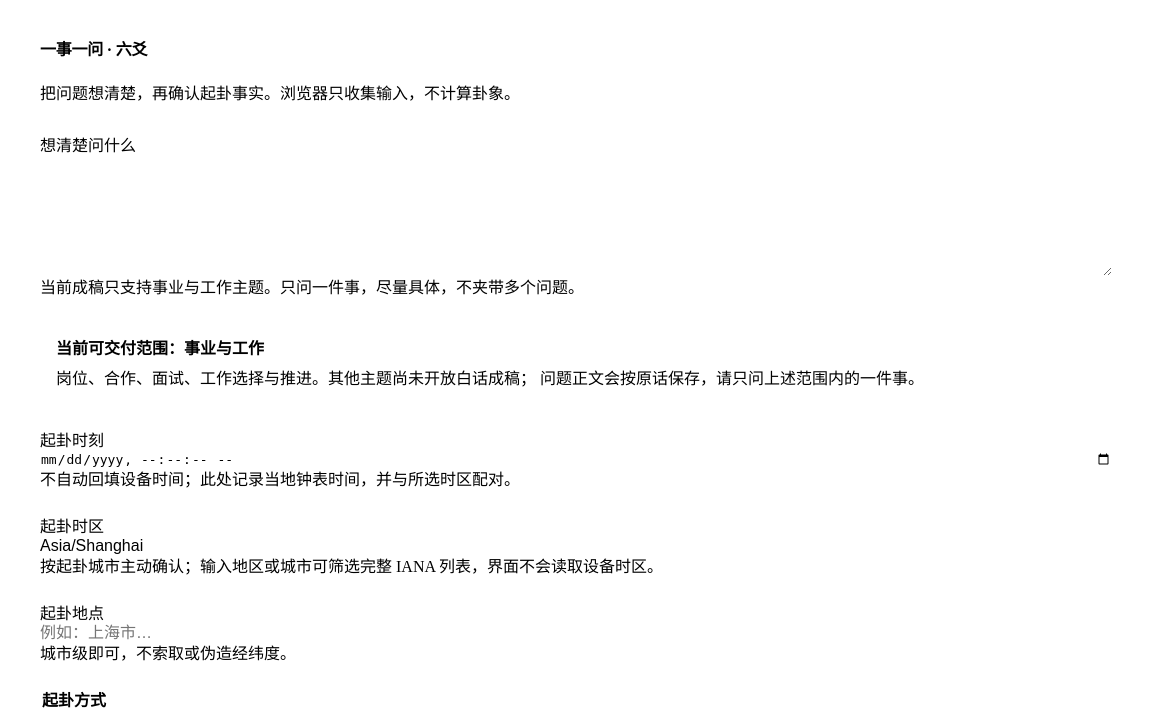
Test: LiuyaoForm › uses the searchable IANA allowlist and rejects a merely well-shaped value
Step 1. Type "这次岗位面试能否进入下一轮？" into the text box labelled "想清楚问什么" → [576, 216], box [40,156,1112,276]
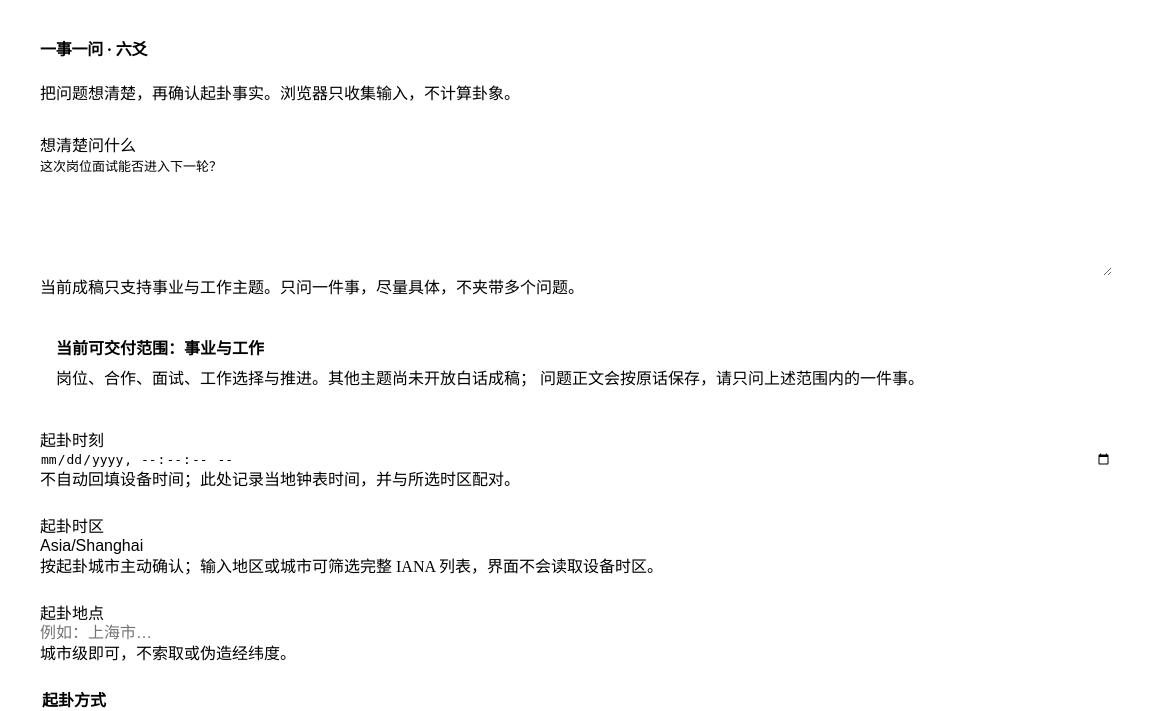
Step 2. Type "2026-08-09T20:10" into the field labelled "起卦时刻" → [576, 460], box [40,451,1112,468]
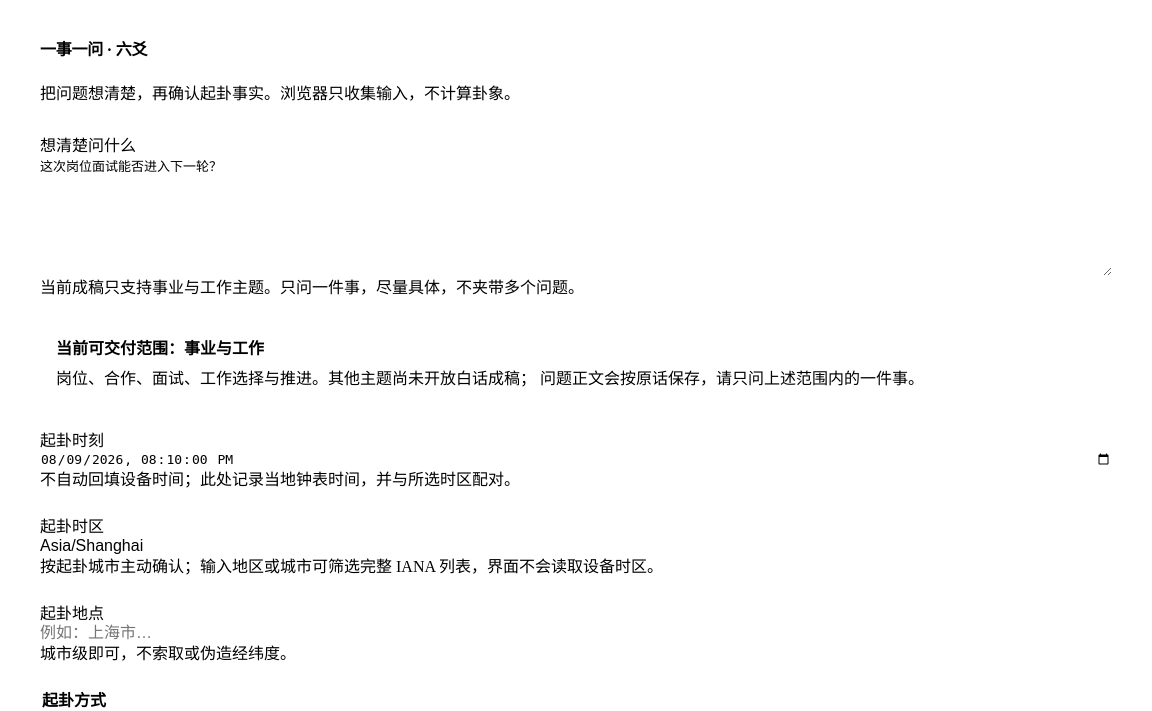
Step 3. Type "上海市" into the field labelled "起卦地点" → [576, 633], box [40,624,1112,642]
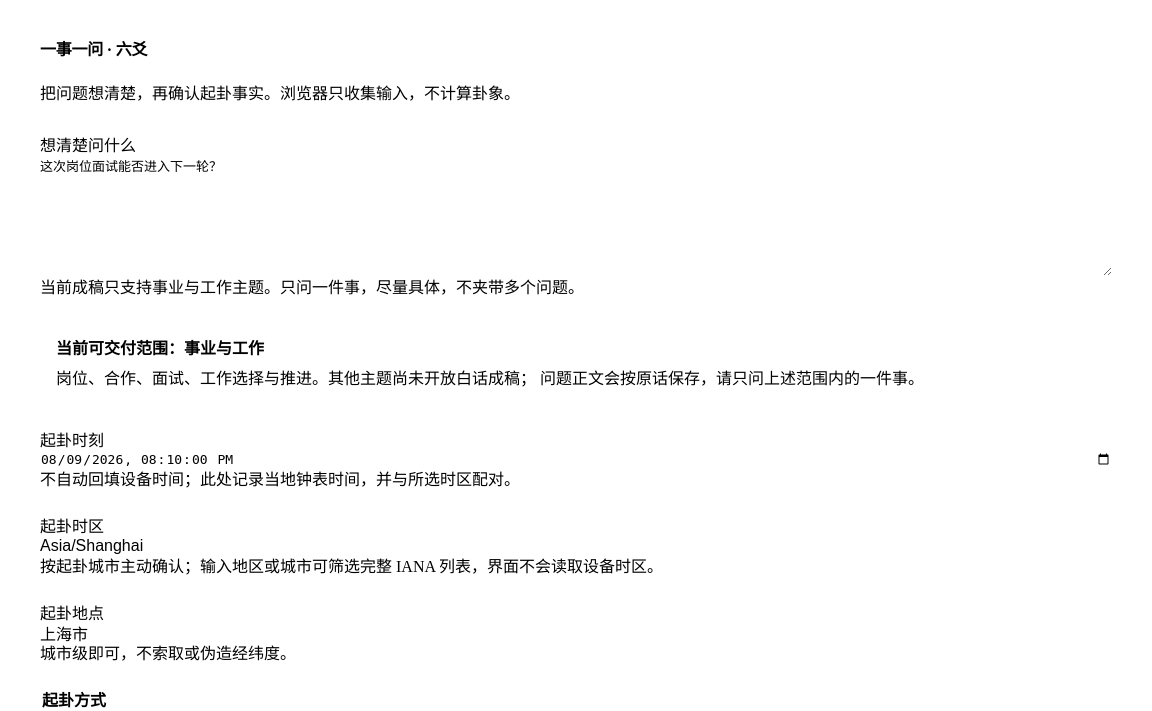
Step 4. Replace the text in the field labelled "起卦时区" with "Foo/Bar" → [576, 546], box [40,537,1112,555]
(page scrolled)
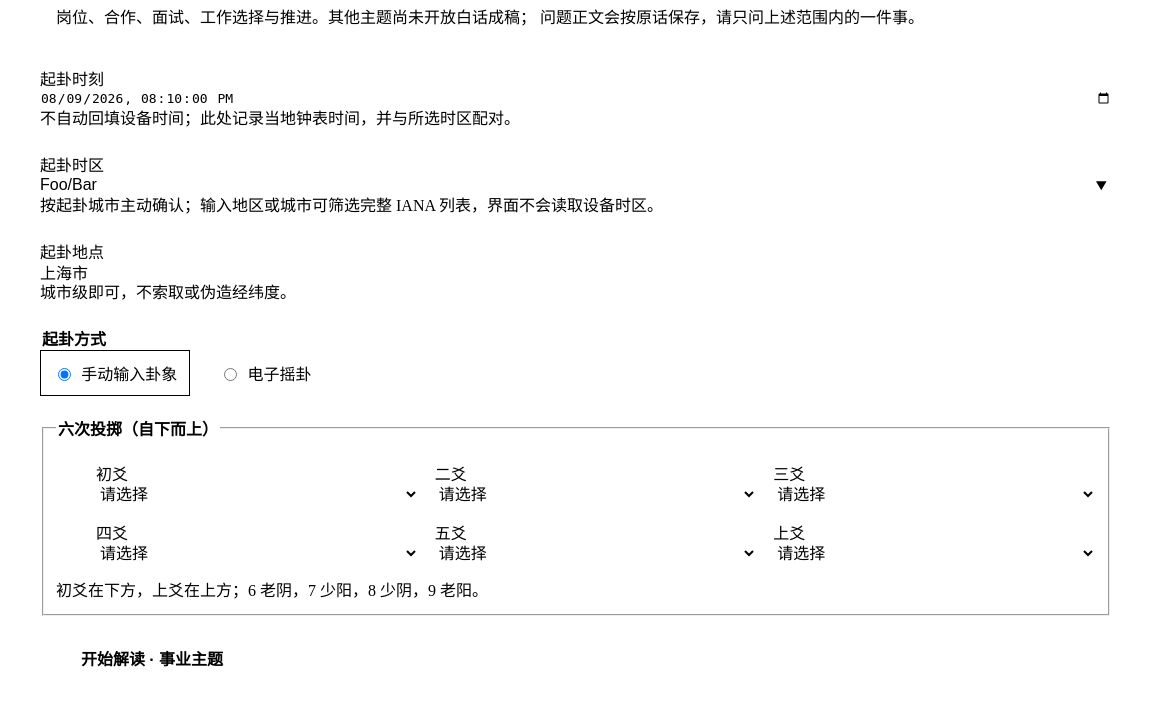
Step 5. Click the button "开始解读 · 事业主题" → [152, 658], box [40,636,264,680]
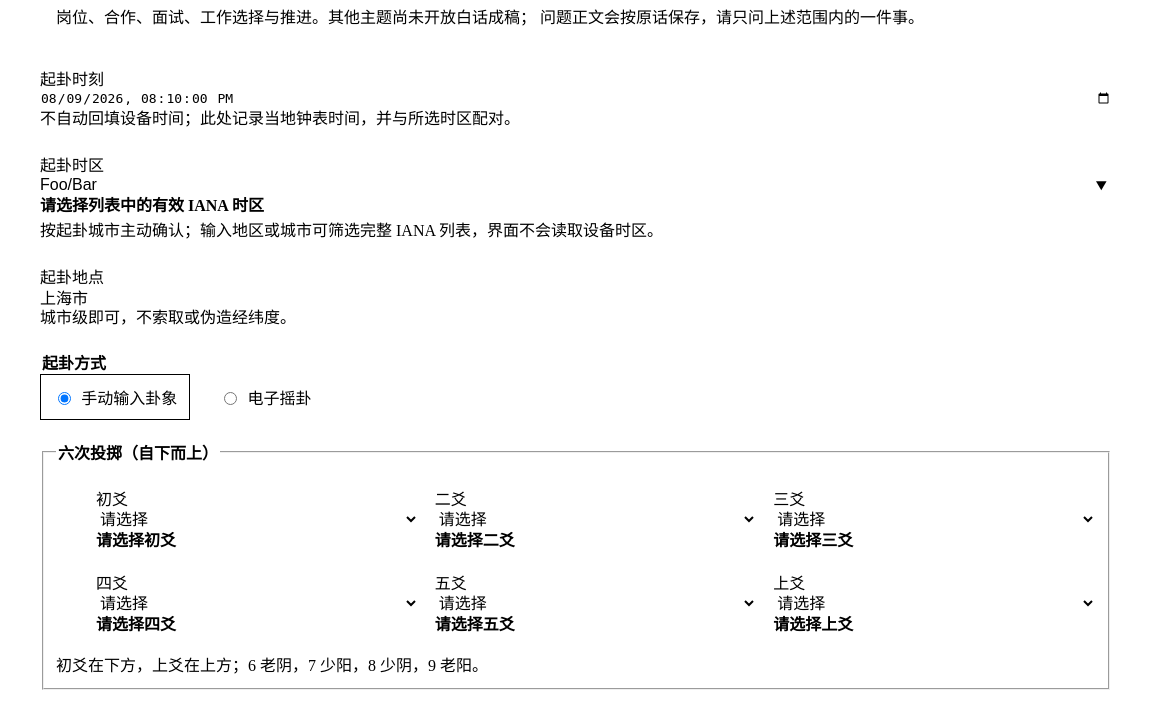
Check: the text "请选择列表中的有效 IANA 时区" is shown, box [40,197,264,214]
